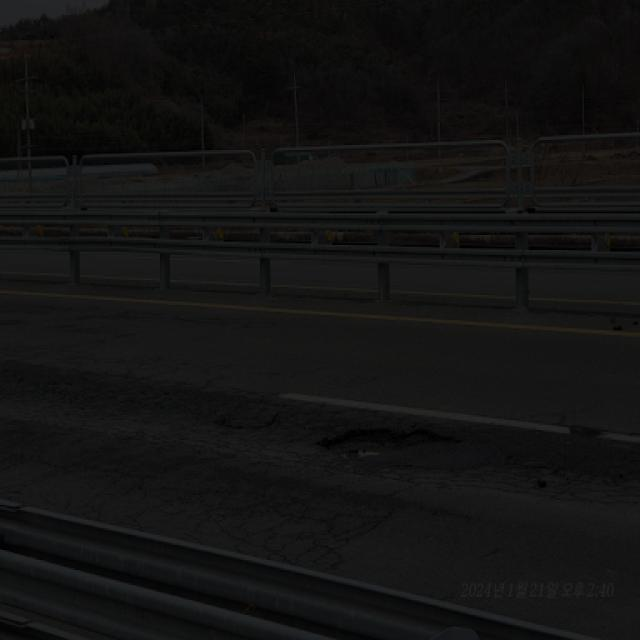pothole: (309, 406, 490, 472)
